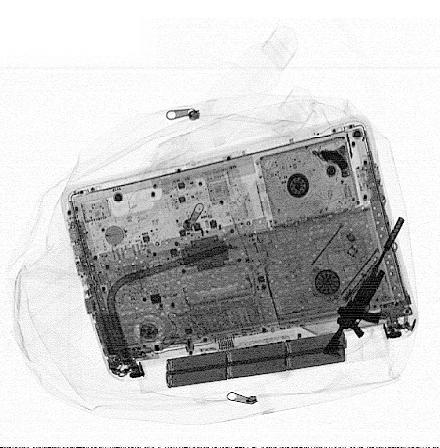Gun: (324, 215, 405, 357)
